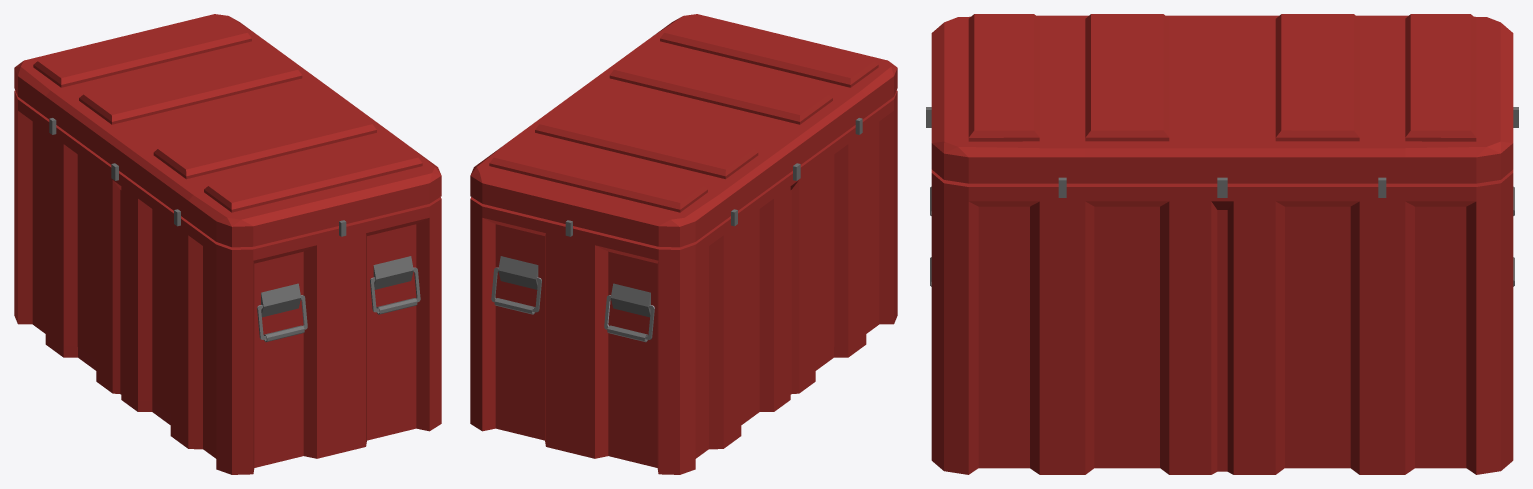
Rendered from crate 3.fbx.
3 views of the same model, side by side, from view 1: azimuth 30°, elevation 25°; view 2: azimuth 150°, elevation 25°; view 3: azimuth 270°, elevation 25° (orthographic). The views are drawn at different scales.
Parts seen in each view (by area): view 1: Box, Lid, Cube, Clasps; view 2: Box, Lid, Cube, Clasps; view 3: Box, Lid, Clasps.
Part boxes in pixels (x1,y1,x2,y2): Box: (14,90,441,474); Lid: (14,14,441,247); Cube: (257,256,420,342); Clasps: (49,118,346,236); Box: (470,90,897,474); Lid: (470,14,897,247); Cube: (491,256,654,342); Clasps: (565,118,862,236); Box: (931,169,1513,474); Lid: (931,14,1513,183); Clasps: (926,107,1518,197).
Size of the model in its own units: 214 by 232 by 373.
